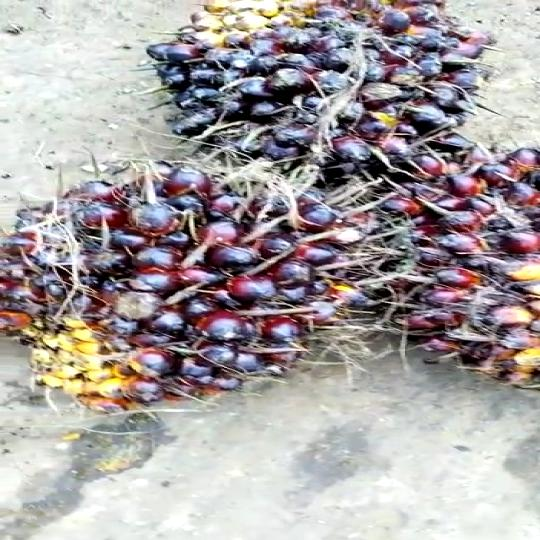kurang masak: (0, 147, 367, 409), (123, 0, 501, 182), (362, 143, 540, 410)
